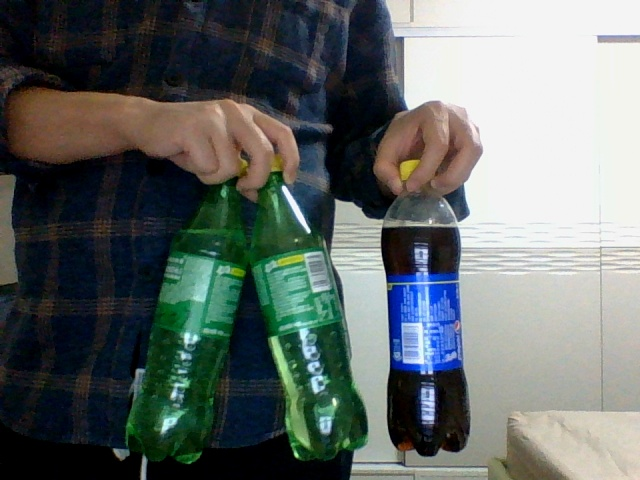Cola: (381, 160, 471, 457)
Sprite: (124, 158, 249, 464), (249, 156, 369, 460)
